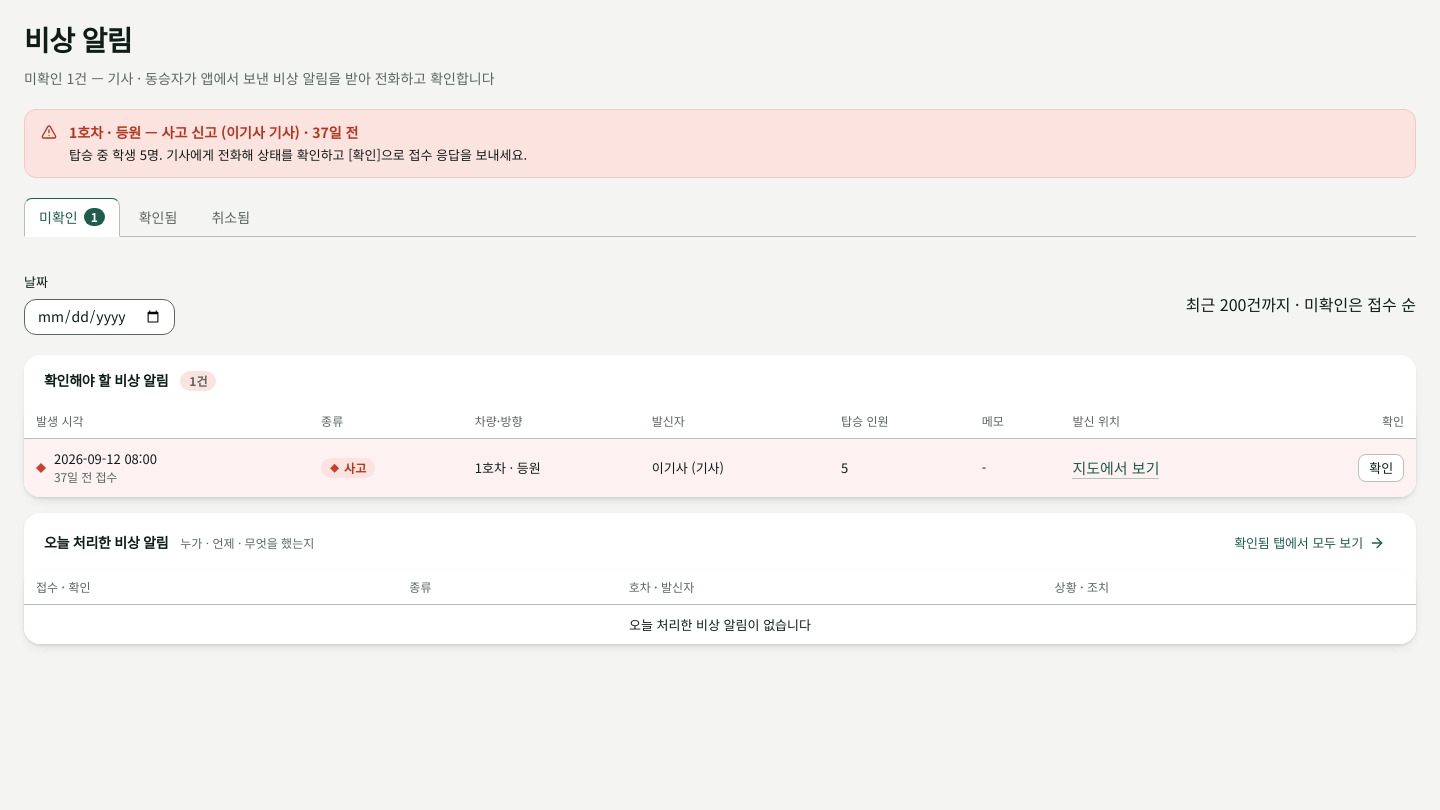
Test: EmergencyList — 취소된 건 › 철회 안내는 다음 5초 폴링이 성공해도 지워지지 않고 [닫기] 로 치운다
This screenshot has width=1440, height=810.
Click the button "확인": (1381, 468) top-left (1358, 454), bottom-right (1404, 482)
Wait 5000 ms
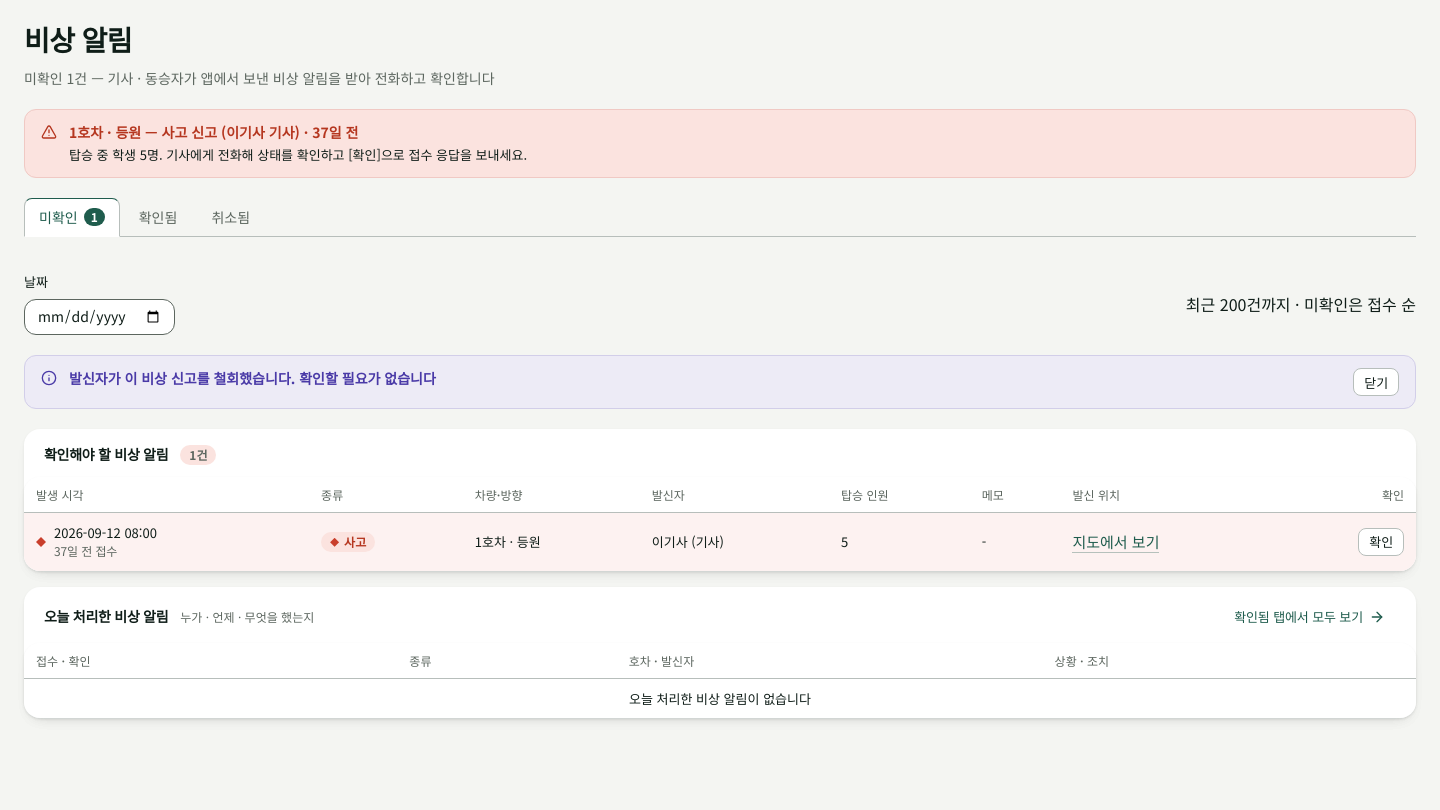
Now the text "발신자가 이 비상 신고를 철회했습니다. 확인할 필요가 없습니다" is shown, box top-left (69, 368), bottom-right (436, 388)
Click the button "닫기": (1376, 382) top-left (1353, 368), bottom-right (1399, 396)
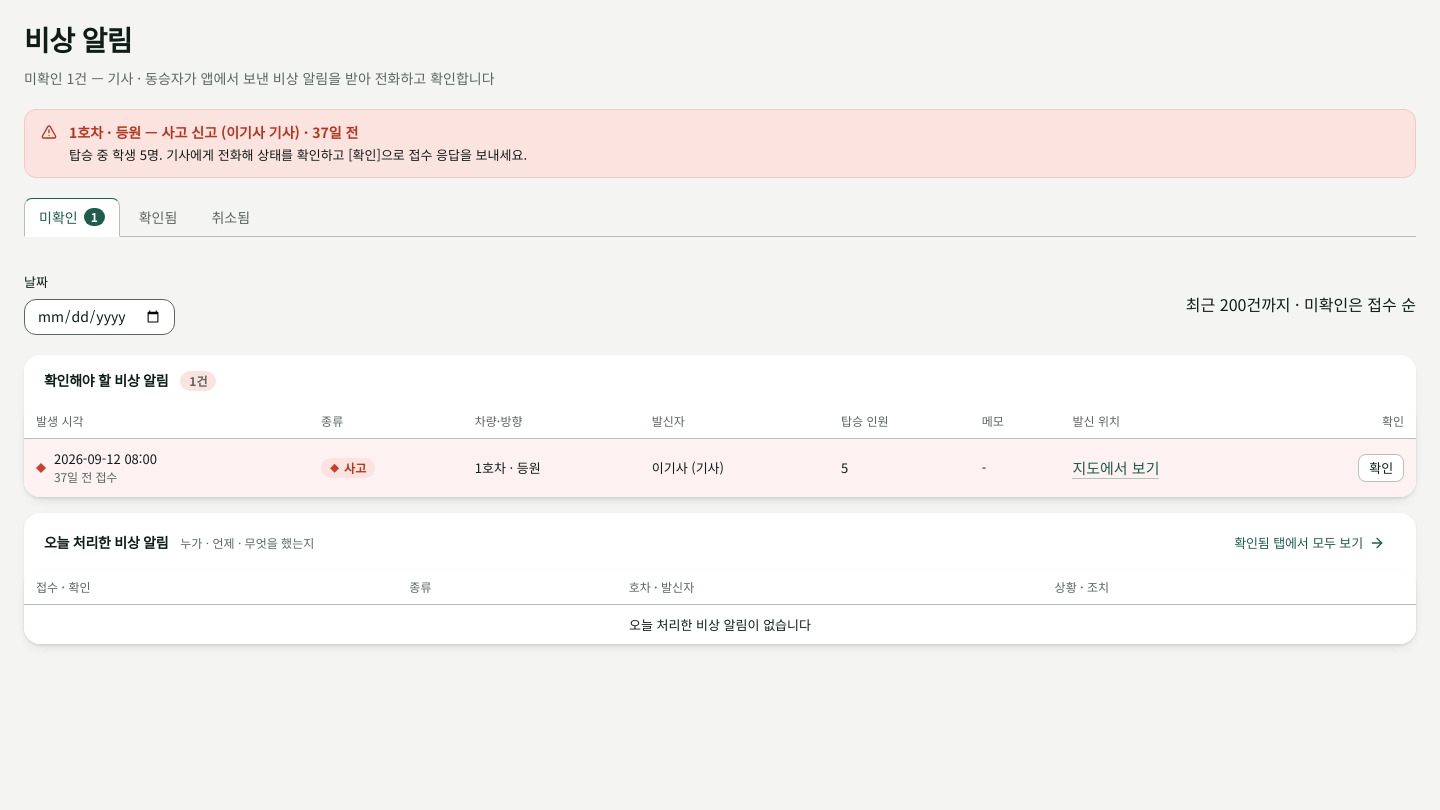
Now the text "발신자가 이 비상 신고를 철회했습니다. 확인할 필요가 없습니다" is gone
